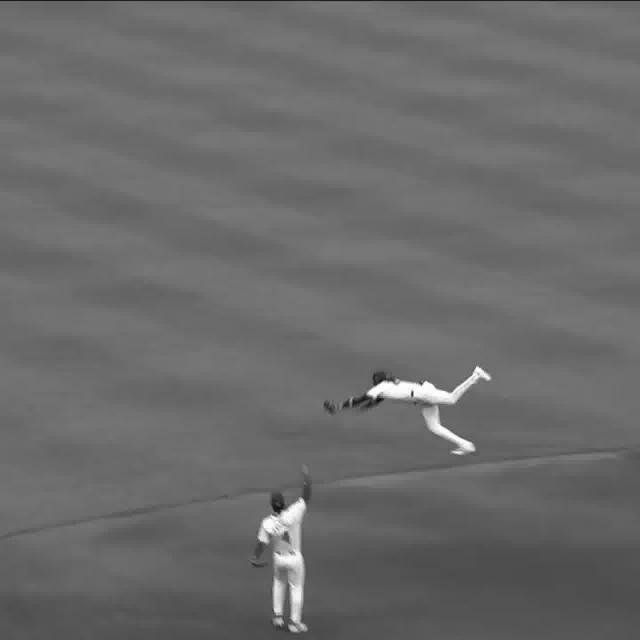baseball_glove: (322, 399, 341, 417), (249, 557, 270, 567)
shoe: (450, 441, 479, 458), (474, 365, 496, 385), (288, 618, 310, 636), (273, 617, 290, 628)
